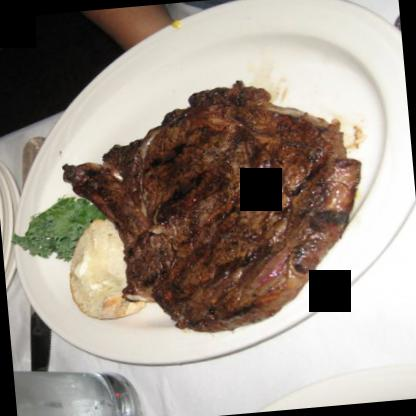beef: (59, 74, 371, 344)
